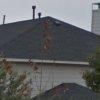Chimney: (25, 4, 50, 27)
